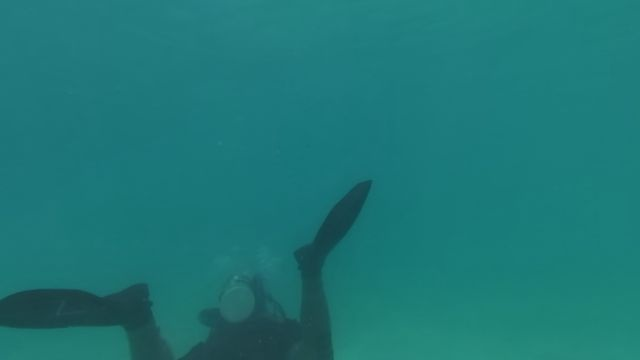Diver: (1, 175, 377, 359)
